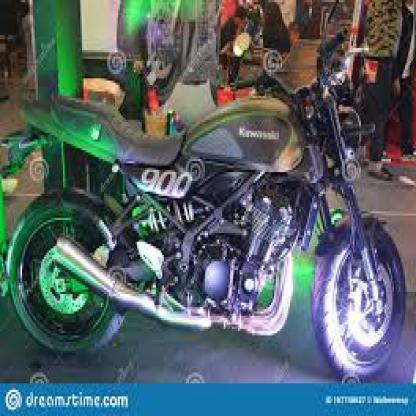Motorcycle: (10, 59, 409, 378)
